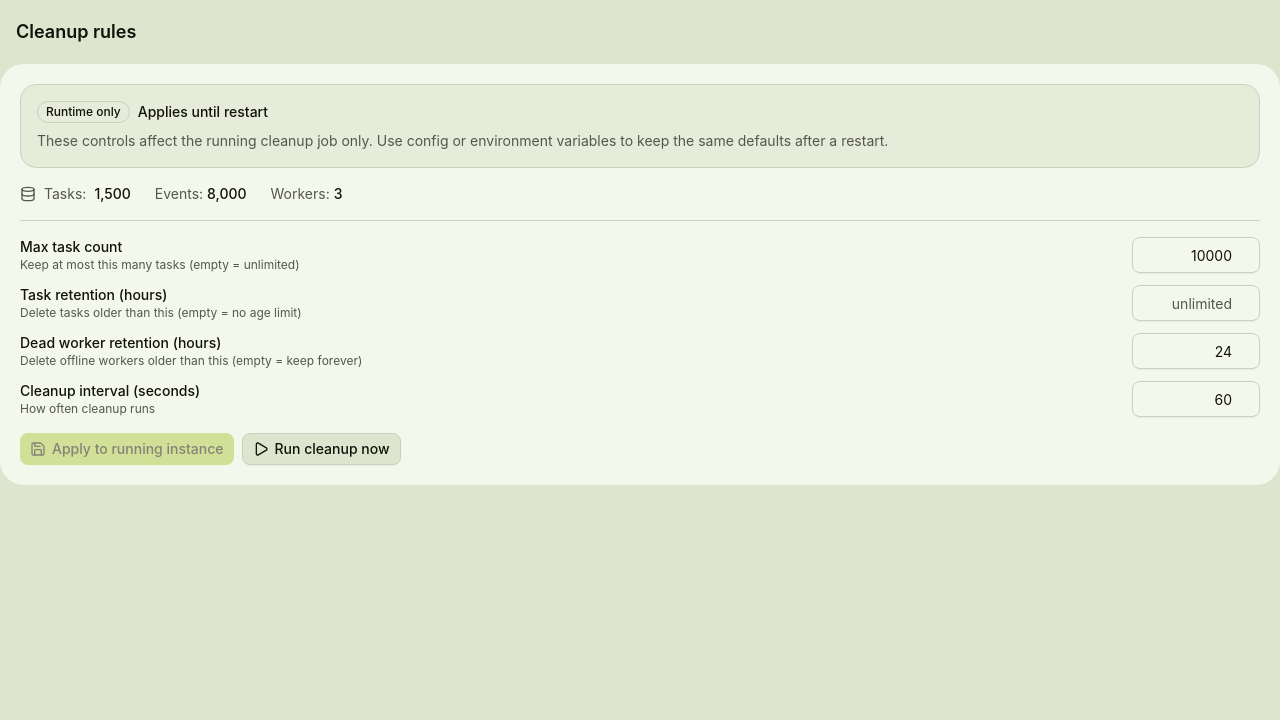
Test: RetentionPolicyPanel › shows status message after save
This screenshot has width=1280, height=720.
Replace the text in the number field showing "10000" in the row of "Max task count" with "5000" at (1196, 255), box x1=1132 y1=237 x2=1260 y2=273
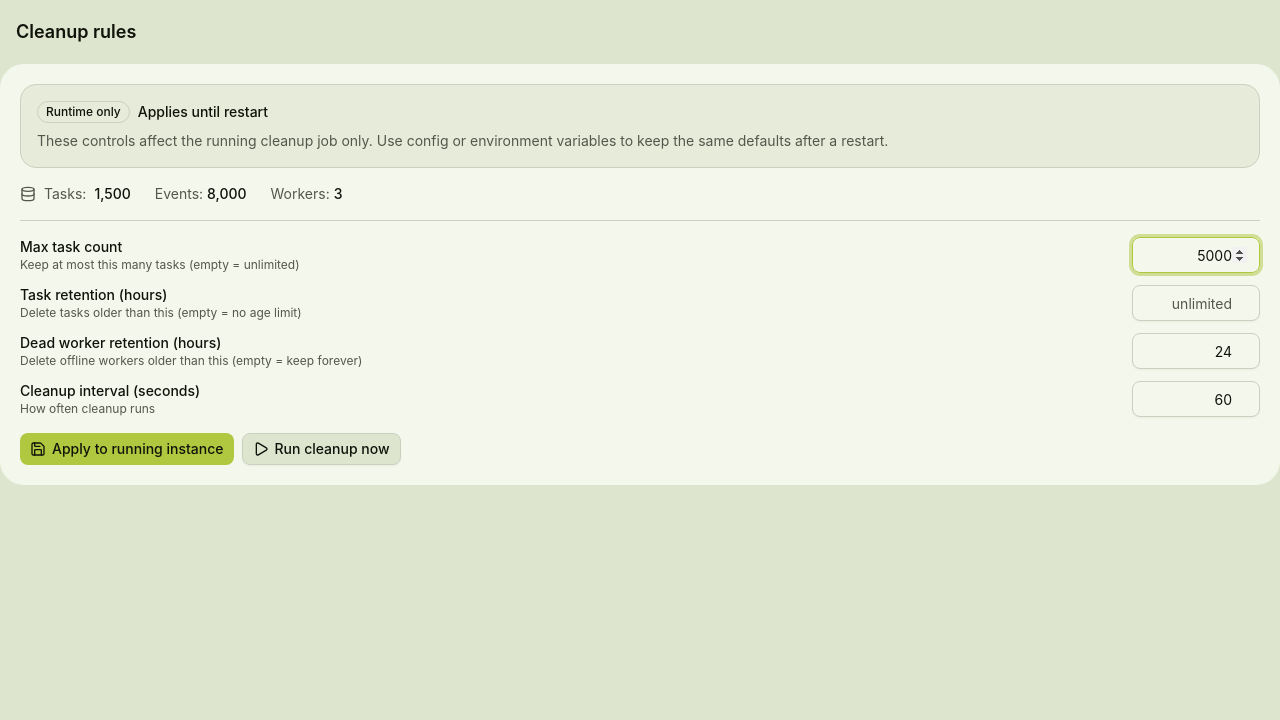
Click the button "Apply to running instance" at (127, 449), box x1=20 y1=433 x2=234 y2=465
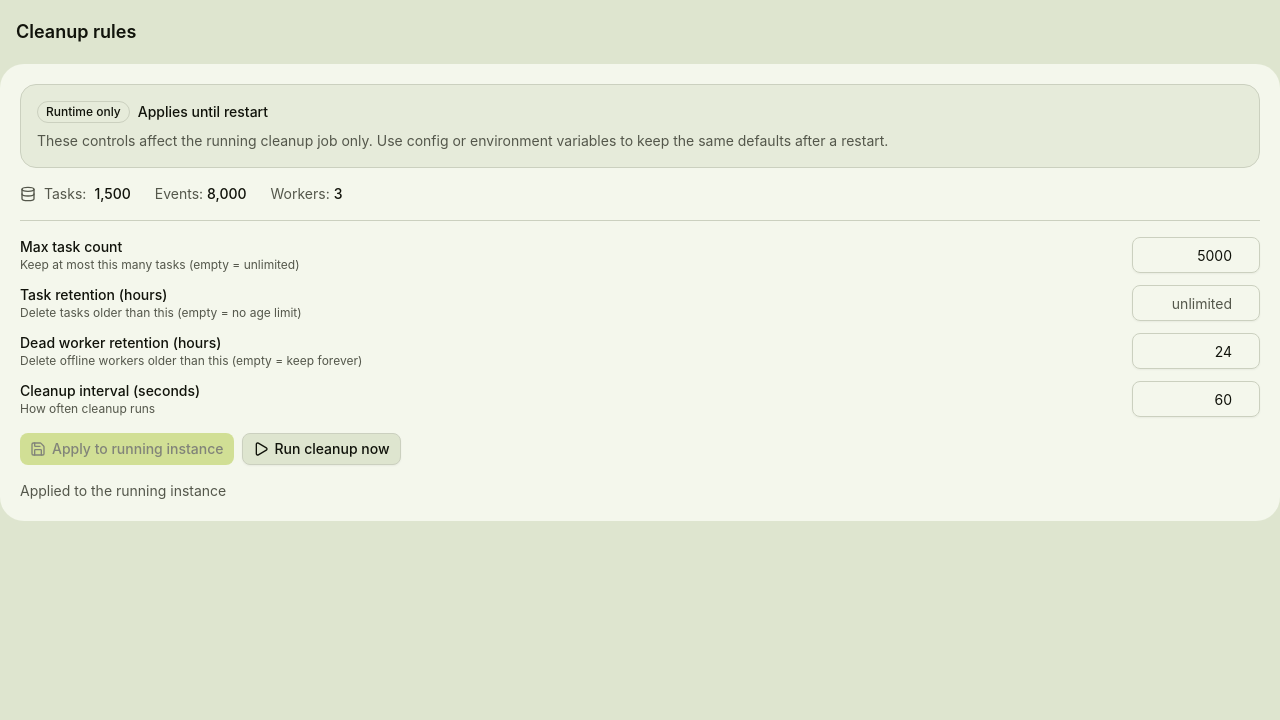
Now the text "Applied to the running instance" is shown, box x1=20 y1=482 x2=226 y2=499
